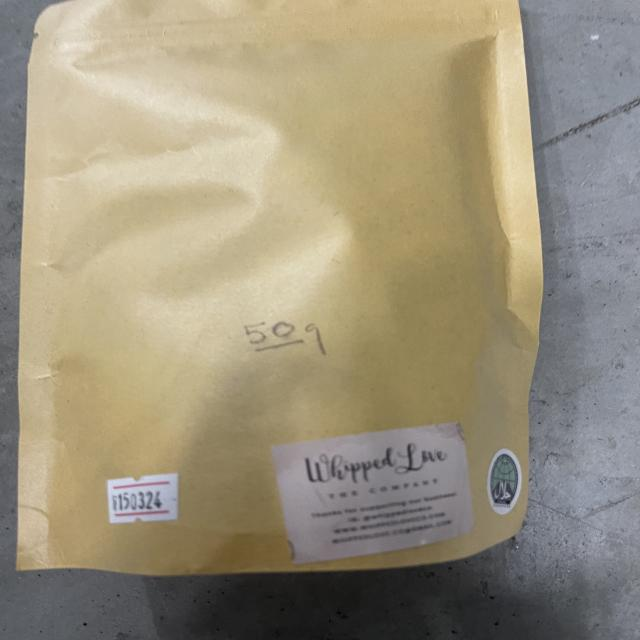object_name: (34, 8, 525, 551)
